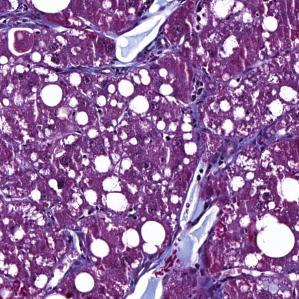fibrosis: (186, 84, 233, 157)
